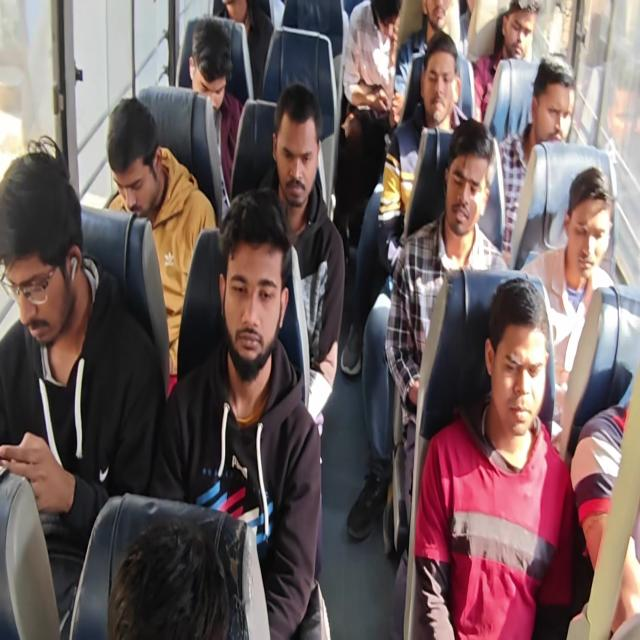person: (1, 1, 638, 638), (1, 135, 166, 638), (150, 188, 329, 638), (344, 31, 472, 541), (408, 276, 577, 638), (384, 117, 510, 551), (105, 96, 217, 394), (256, 82, 346, 434), (519, 166, 618, 450), (377, 31, 470, 275), (568, 359, 640, 639), (496, 53, 576, 266), (334, 0, 402, 245), (106, 516, 230, 639), (188, 17, 243, 204), (392, 0, 459, 124), (472, 0, 539, 122), (218, 0, 274, 100)
